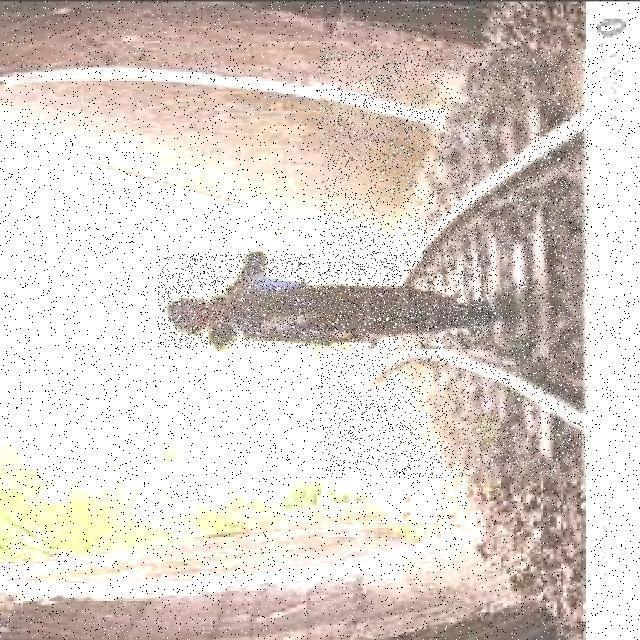rail: (321, 50, 589, 479)
